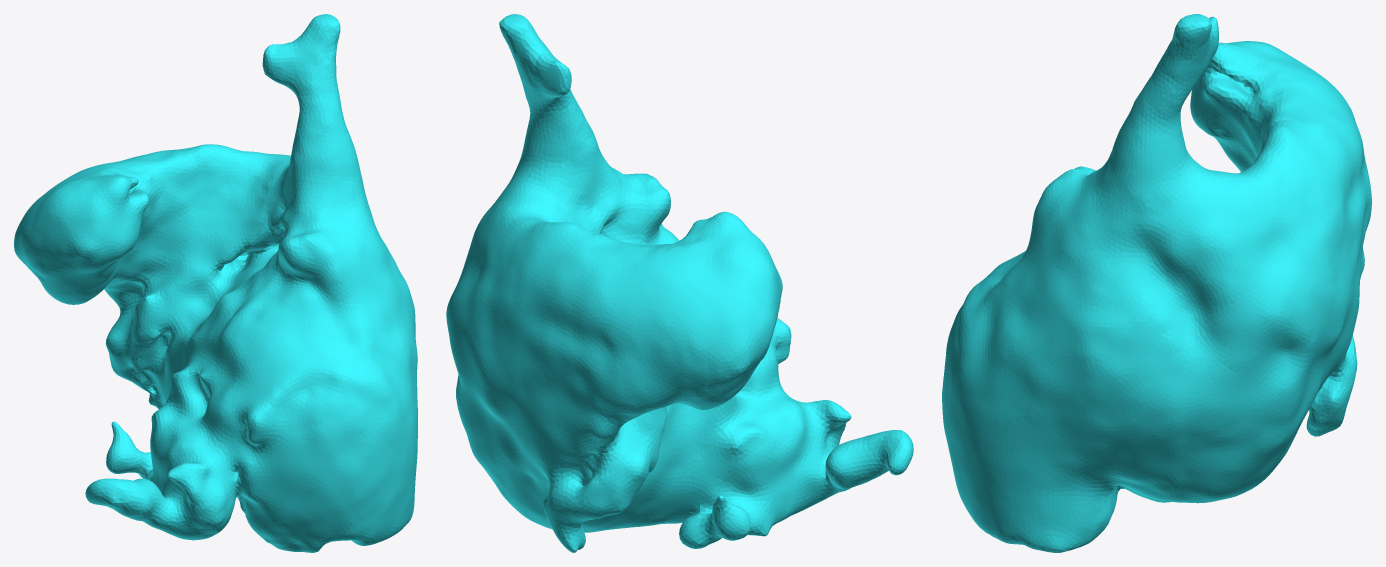
Rendered from fontanRA.glb.
The picture shows the model from 3 angles, left to right: view 1: azimuth 30°, elevation 25°; view 2: azimuth 150°, elevation 25°; view 3: azimuth 270°, elevation 25°; orthographic projection. The views are drawn at different scales.
Parts seen in each view (by area): view 1: 2018001 Right Atrium; view 2: 2018001 Right Atrium; view 3: 2018001 Right Atrium.
Boxes of the visible parts, <box> form: 2018001 Right Atrium: <box>14,14,417,552</box>; 2018001 Right Atrium: <box>446,14,913,552</box>; 2018001 Right Atrium: <box>942,14,1371,552</box>.
Size of the model in its own units: 130 by 164 by 120.
